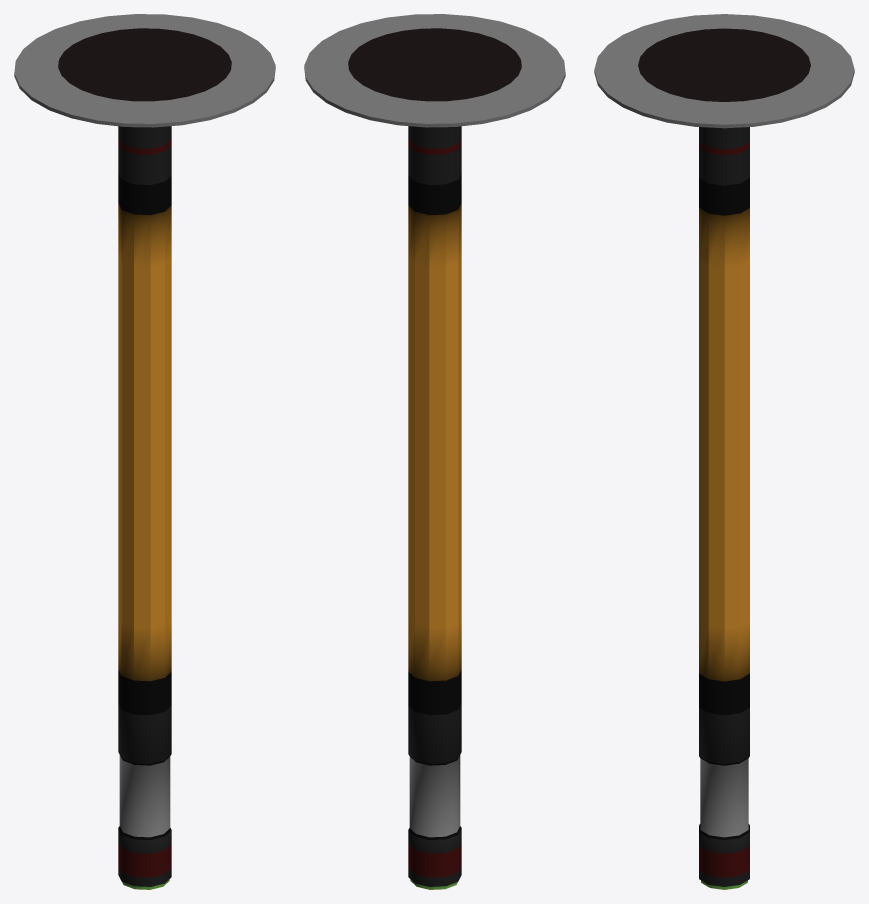
File: W_O_Streetlamp_001_L0.fbx
3 views of the same model, side by side, from view 1: azimuth 30°, elevation 25°; view 2: azimuth 150°, elevation 25°; view 3: azimuth 270°, elevation 25° (orthographic).
Visible parts, largest first — view 1: W_O_Streetlamp_001_L0; view 2: W_O_Streetlamp_001_L0; view 3: W_O_Streetlamp_001_L0.
Boxes of the visible parts, x1,y1,x2,y2 form: W_O_Streetlamp_001_L0: [14, 14, 275, 889]; W_O_Streetlamp_001_L0: [304, 14, 565, 889]; W_O_Streetlamp_001_L0: [594, 14, 854, 889].
Size of the model in its own units: 0.3946 by 0.3919 by 1.35.
